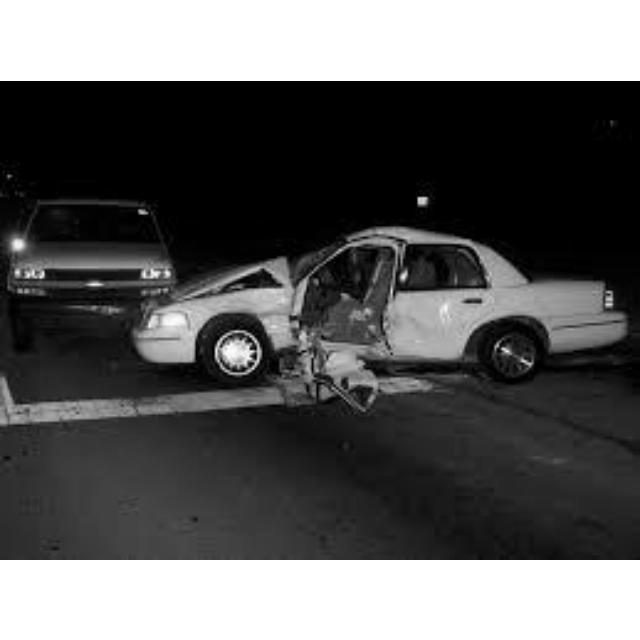bonnet-dent: (185, 261, 291, 298)
doorouter-dent: (307, 251, 383, 359), (411, 246, 477, 349)
roof-dent: (351, 222, 469, 251)
